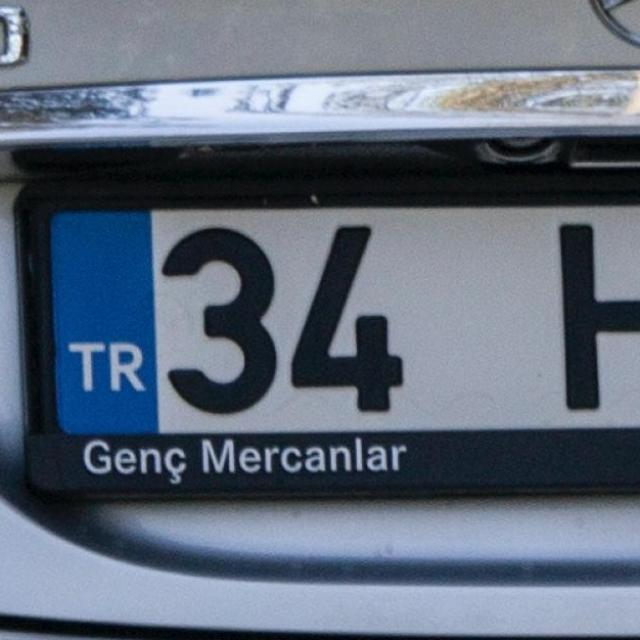license_plate: (0, 172, 552, 446)
